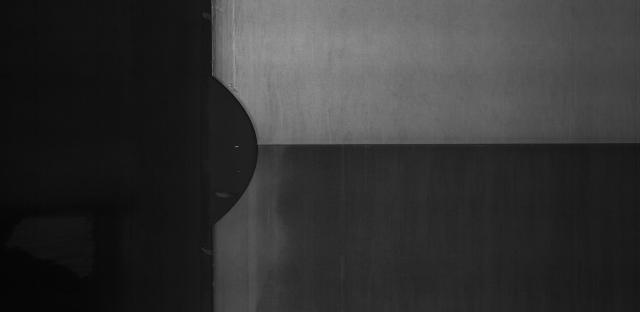welding_line: (259, 137, 636, 152)
